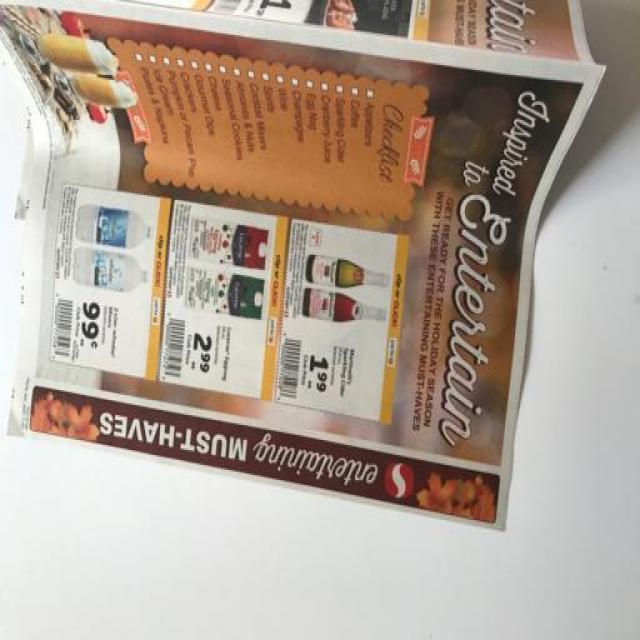paper: (4, 9, 568, 529)
